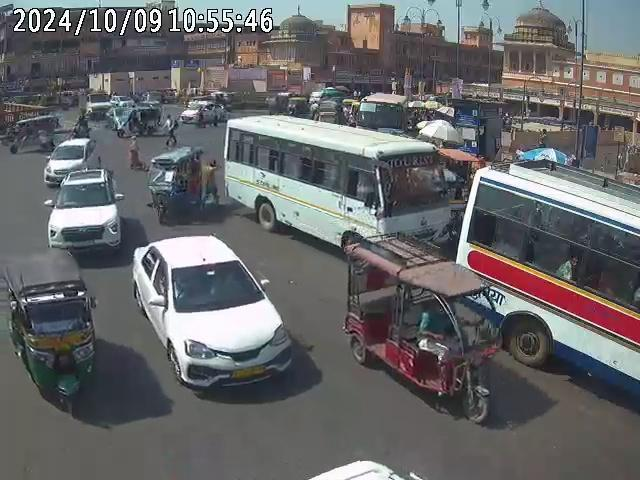auto: (342, 234, 498, 421), (4, 243, 99, 410), (145, 145, 203, 223), (4, 113, 62, 155), (118, 106, 159, 139)
bus: (453, 156, 640, 404), (220, 113, 457, 256), (353, 93, 408, 133)
car: (128, 234, 296, 400), (44, 166, 124, 252), (43, 138, 100, 186), (180, 98, 224, 124)
license_plate: (228, 363, 268, 380), (72, 239, 96, 248)
person: (555, 250, 579, 284)
